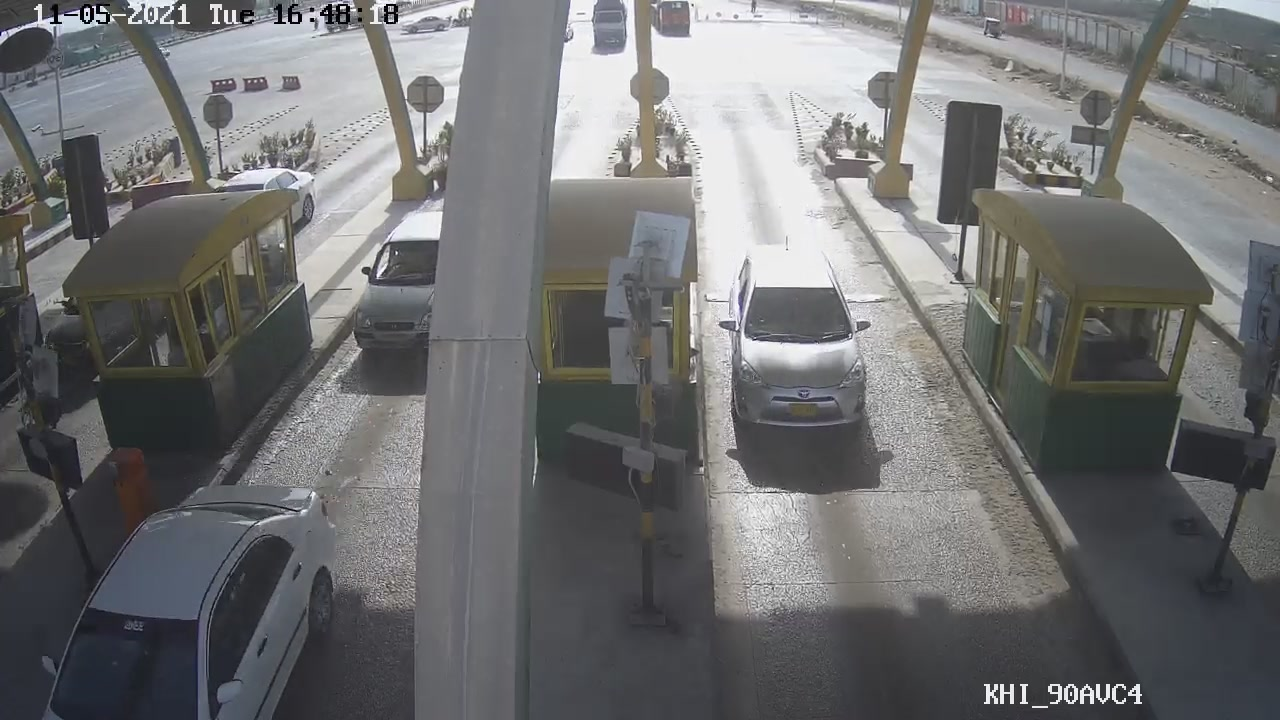F1: (719, 238, 878, 433)
